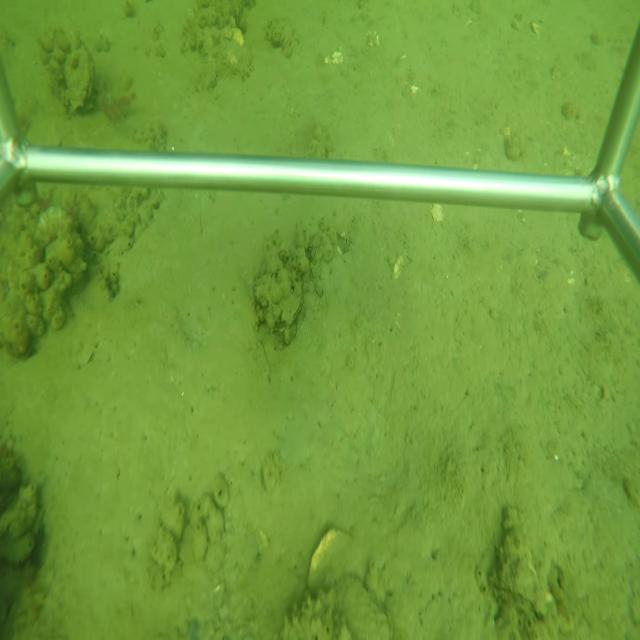Oyster-Closed: (304, 525, 356, 591), (279, 269, 308, 330)
Oyster-Indeterminate: (322, 574, 396, 638)
Oyster-Open: (61, 38, 97, 122)
